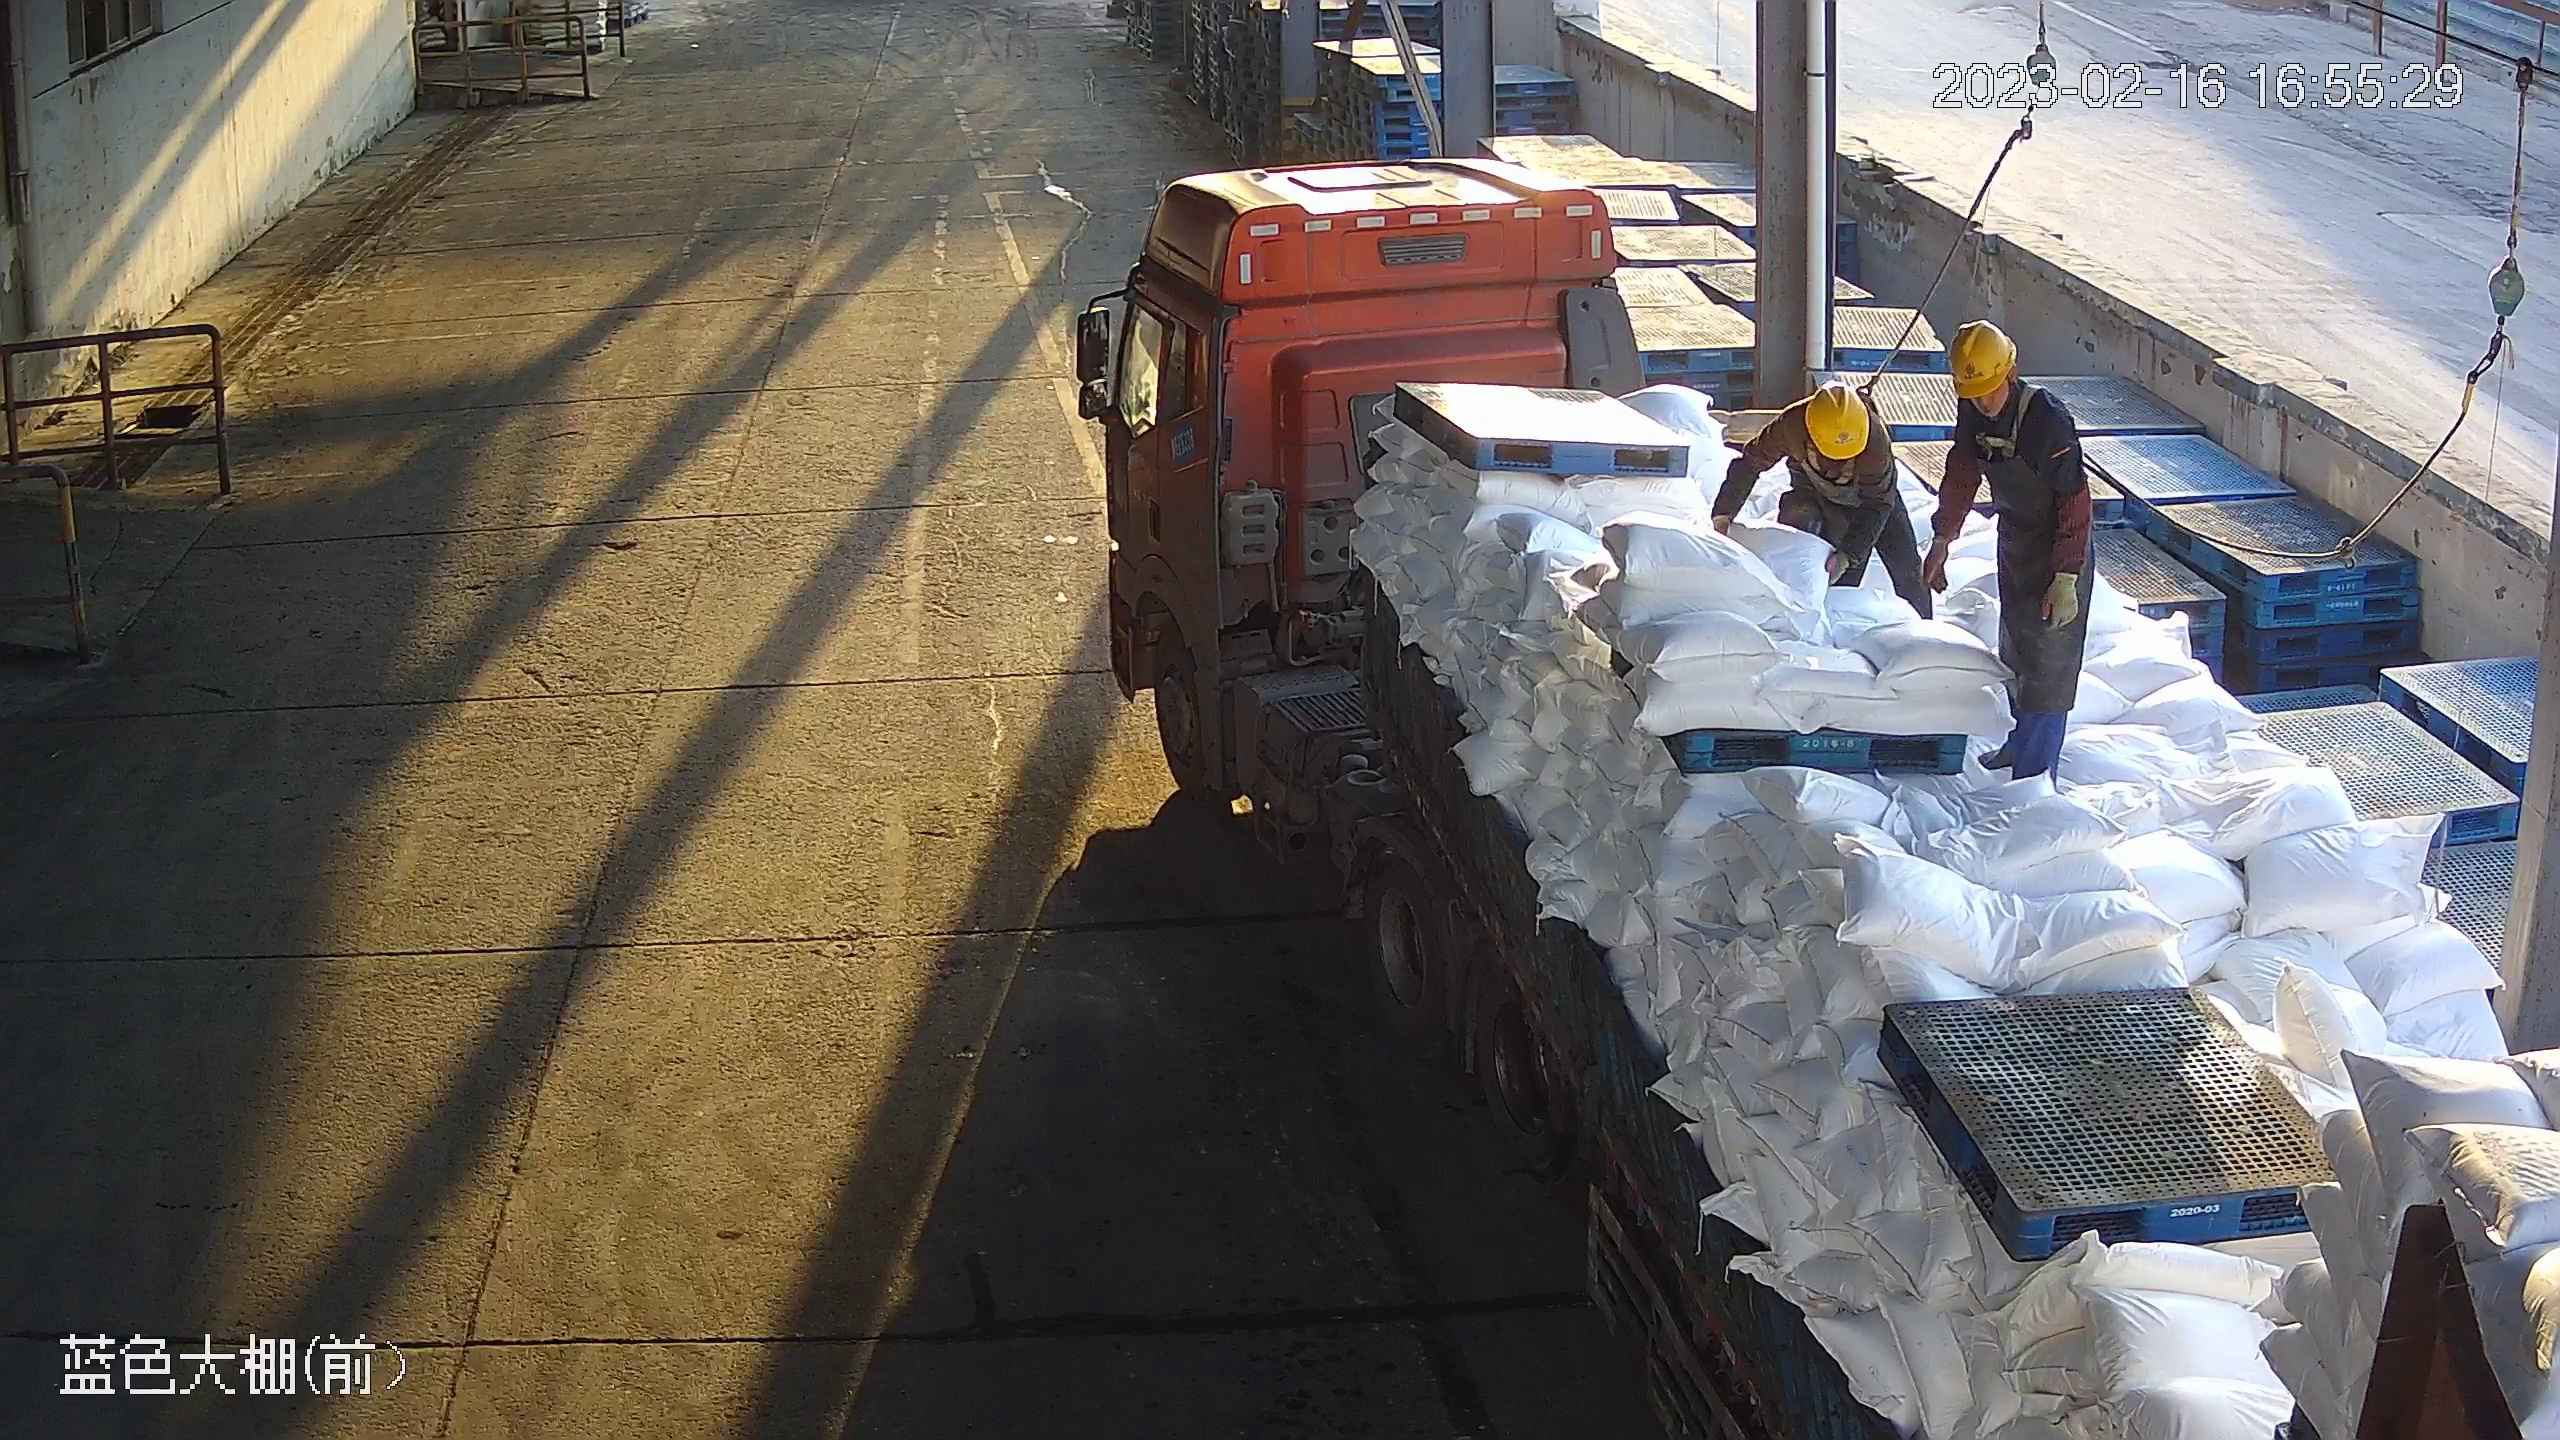belt: (1968, 408, 2042, 481), (1798, 438, 1864, 488)
head: (1944, 323, 2086, 468), (1750, 379, 1896, 492)
helmet: (1798, 377, 1881, 458), (1948, 316, 2023, 403)
people: (1931, 314, 2101, 794)
truck: (1085, 157, 2560, 1440)
